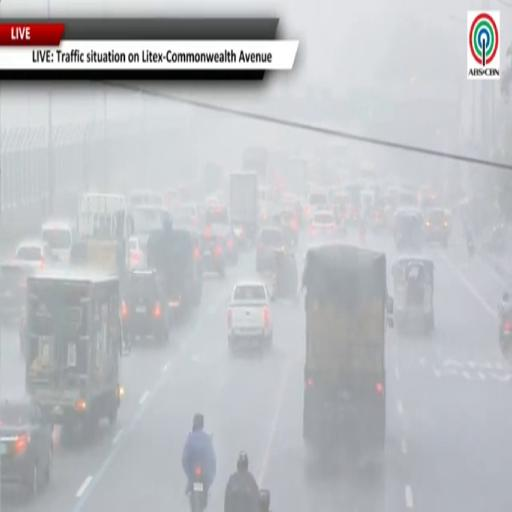car: (0, 398, 53, 497), (122, 270, 170, 344), (228, 281, 272, 351), (0, 262, 34, 324), (42, 221, 77, 263), (256, 227, 285, 273), (206, 224, 238, 264), (201, 226, 226, 277), (14, 240, 55, 269), (424, 208, 451, 247), (310, 210, 342, 239), (305, 189, 329, 220), (173, 203, 202, 228), (129, 236, 146, 269), (204, 203, 229, 225)
motorcycle: (190, 467, 207, 511), (260, 489, 270, 511), (467, 236, 474, 255)
truck: (303, 244, 393, 462), (26, 269, 129, 439), (147, 220, 202, 319), (71, 194, 134, 280), (230, 171, 259, 244)
